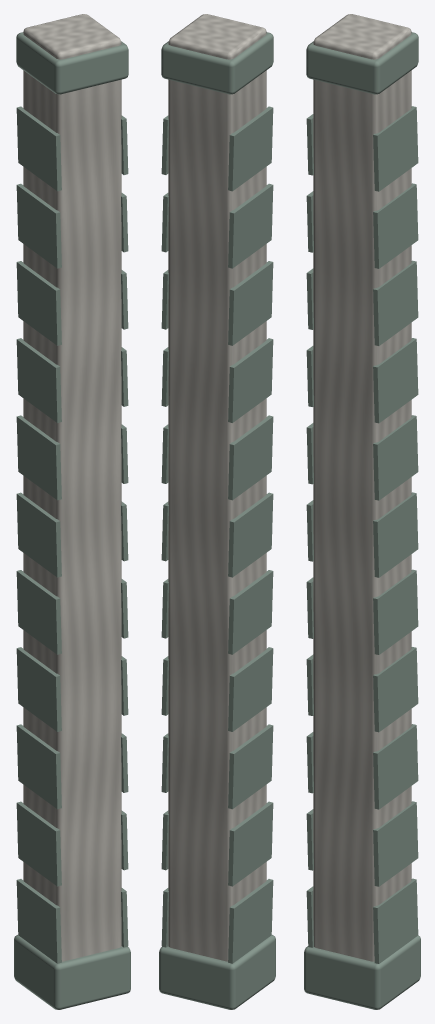
Rendered from halloween-slasher-street-house-corner-post-ae23da19__27267.glb.
The picture shows the model from 3 angles, left to right: view 1: azimuth 30°, elevation 25°; view 2: azimuth 150°, elevation 25°; view 3: azimuth 330°, elevation 25°; orthographic projection.
Parts seen in each view (by area): view 1: house-corner-post; view 2: house-corner-post; view 3: house-corner-post.
Boxes of the visible parts, x1,y1,x2,y2 form: house-corner-post: (14,14,130,1009); house-corner-post: (159,14,275,1009); house-corner-post: (304,14,420,1009).
Size of the model in its own units: 0.5202 by 6.2 by 0.5202.
2 materials, 1 textured.
